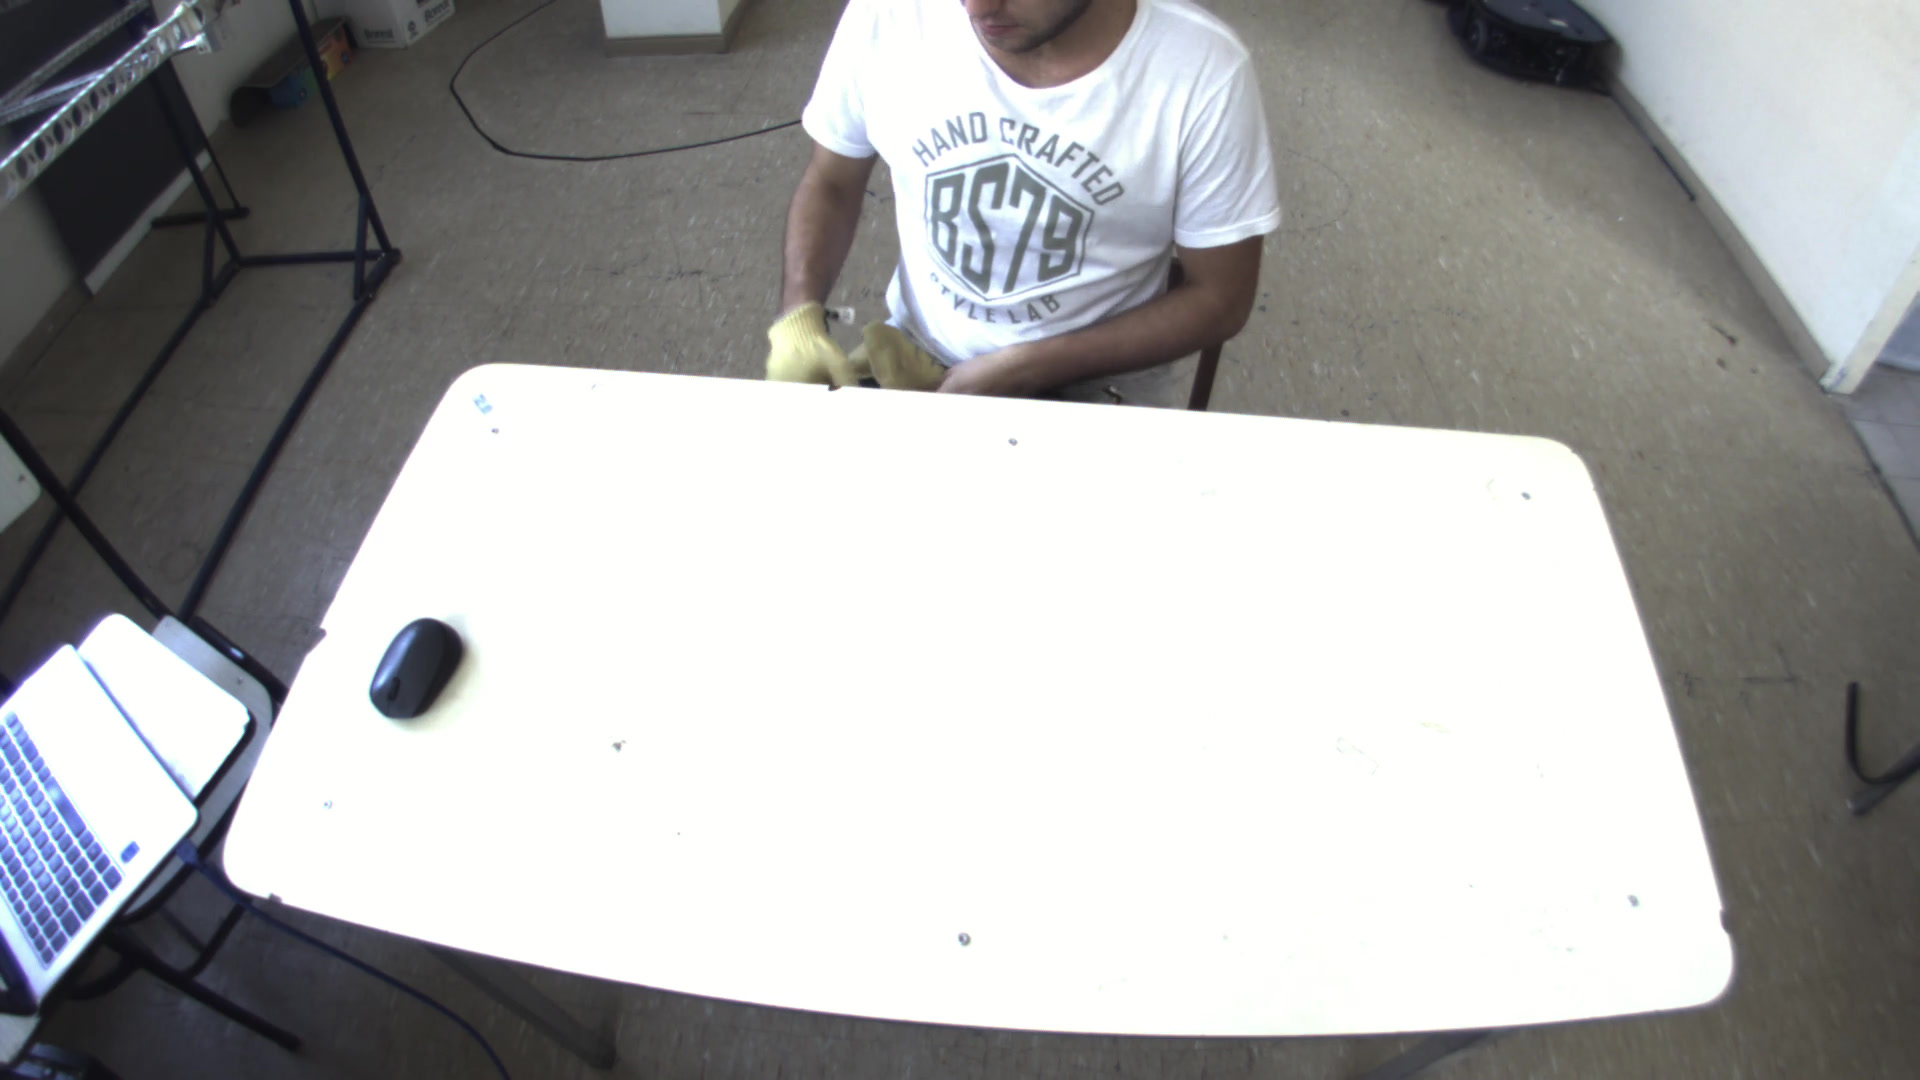hand: (754, 293, 856, 389), (843, 309, 942, 397)
